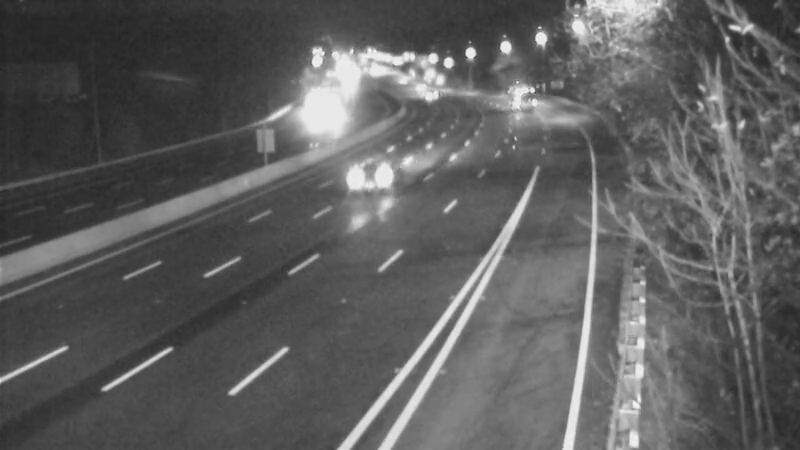vehicle: (328, 127, 408, 207), (404, 70, 454, 120), (492, 70, 542, 120), (290, 88, 340, 138)
